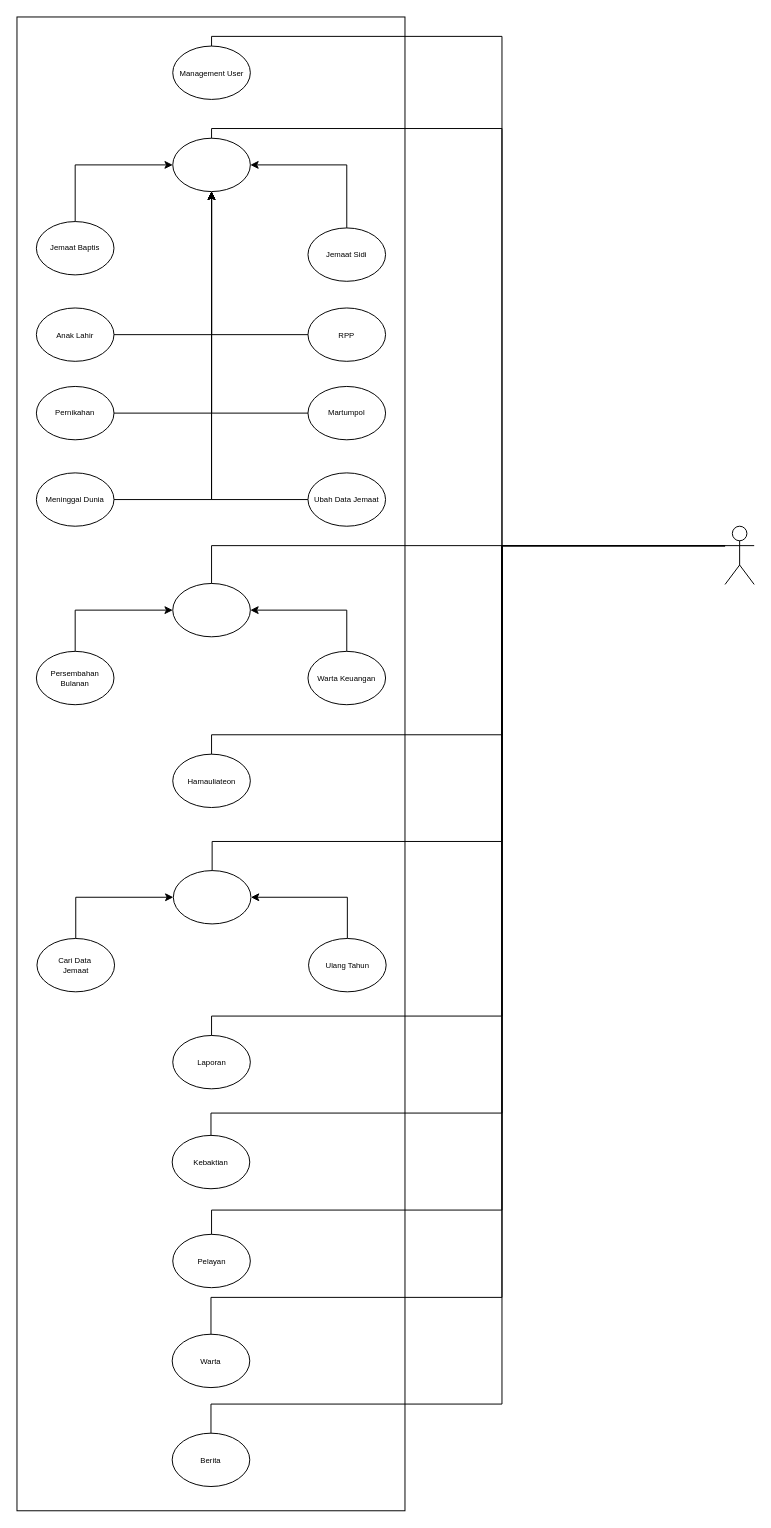
The diagram is 771 pixels wide and 1528 high, and some of its shapes have lost their labels. The centre of each missing label's shape, as x and y in pixels:
Admin: the point at 739,554
Informasi Jemaat: the point at 211,897
Keuangan: the point at 211,609
Peremajaan Data: the point at 211,164
